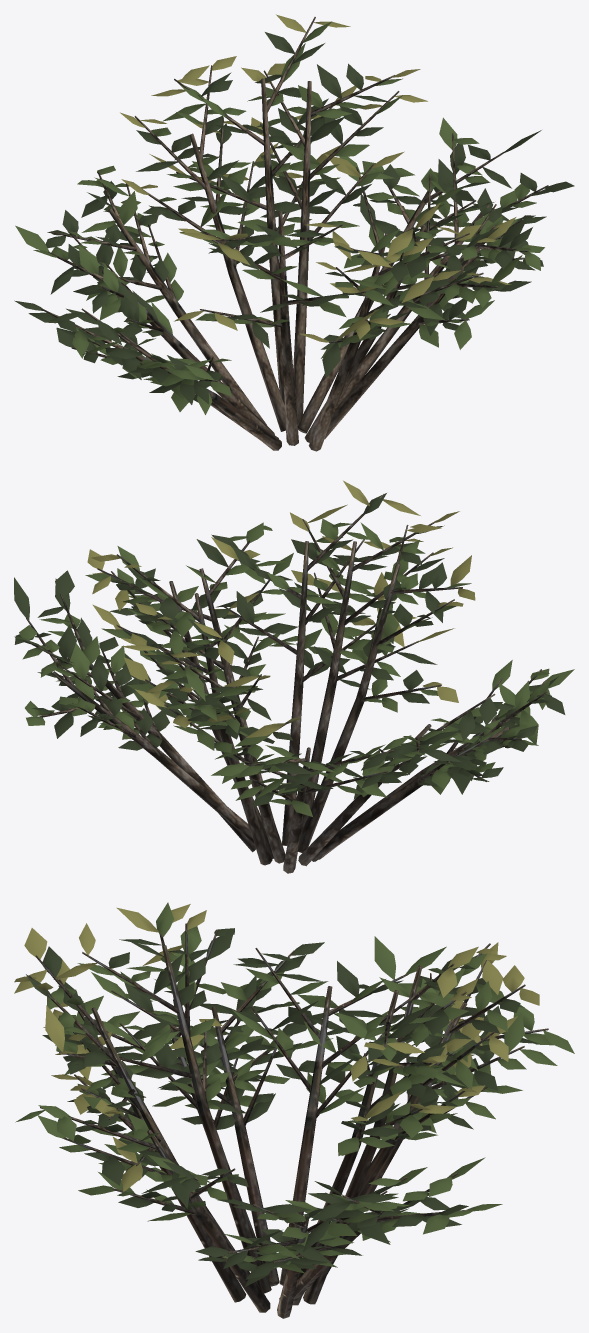
File: garden-laurel.glb
3 views of the same model, one above another, from view 1: azimuth 30°, elevation 25°; view 2: azimuth 150°, elevation 25°; view 3: azimuth 270°, elevation 25° (orthographic). The views are drawn at different scales.
Parts seen in each view (by area): view 1: Frame; view 2: Frame; view 3: Frame.
Part boxes in pixels (box(x1,y1,x2,y2)): Frame: box(14, 14, 574, 451); Frame: box(14, 480, 574, 873); Frame: box(14, 902, 574, 1318).
Bounding box in the file's own units: 1.51 × 0.9397 × 1.22.
Materials: 4 (1 with a texture image).
